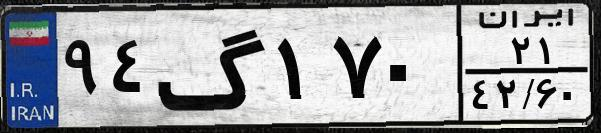0: (385, 28, 445, 110), (560, 70, 590, 125)
1: (270, 28, 330, 110), (537, 27, 568, 80)
2: (508, 27, 537, 80), (495, 70, 520, 125)
4: (110, 28, 156, 98), (470, 70, 495, 125)
6: (535, 70, 560, 125)
7: (330, 28, 385, 110)
9: (57, 26, 110, 100)
گ: (156, 12, 270, 120)
